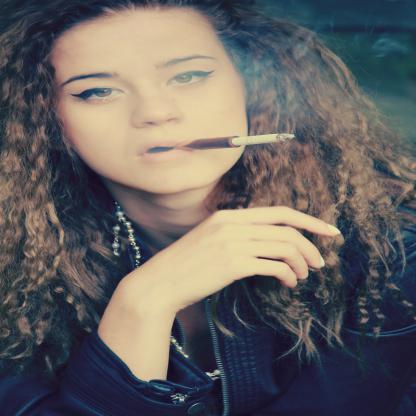smoking: (172, 133, 296, 150)
